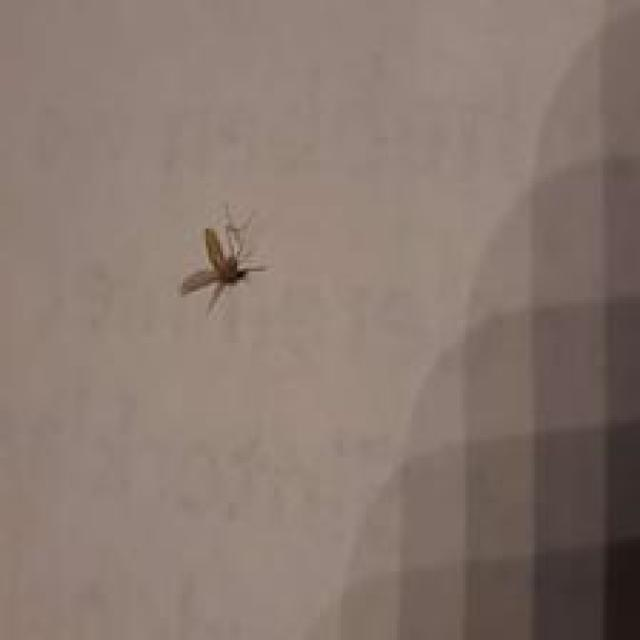Culex: (177, 203, 269, 314)
